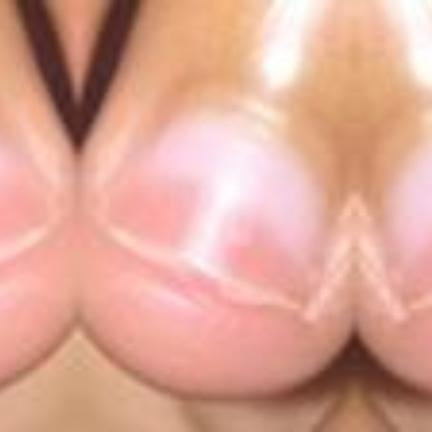Nail: (92, 106, 336, 311), (373, 131, 432, 311), (0, 129, 62, 260)
